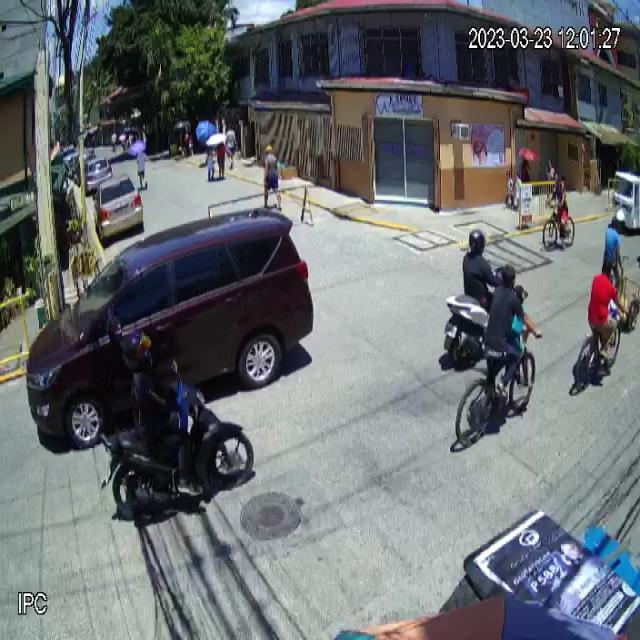Car: (28, 206, 314, 452)
Motorcycle: (98, 360, 255, 520)
